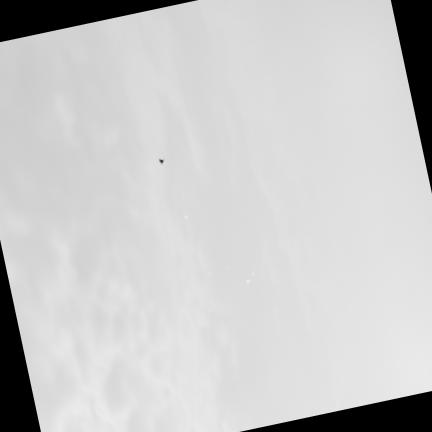Shahed: (158, 157, 165, 164)
